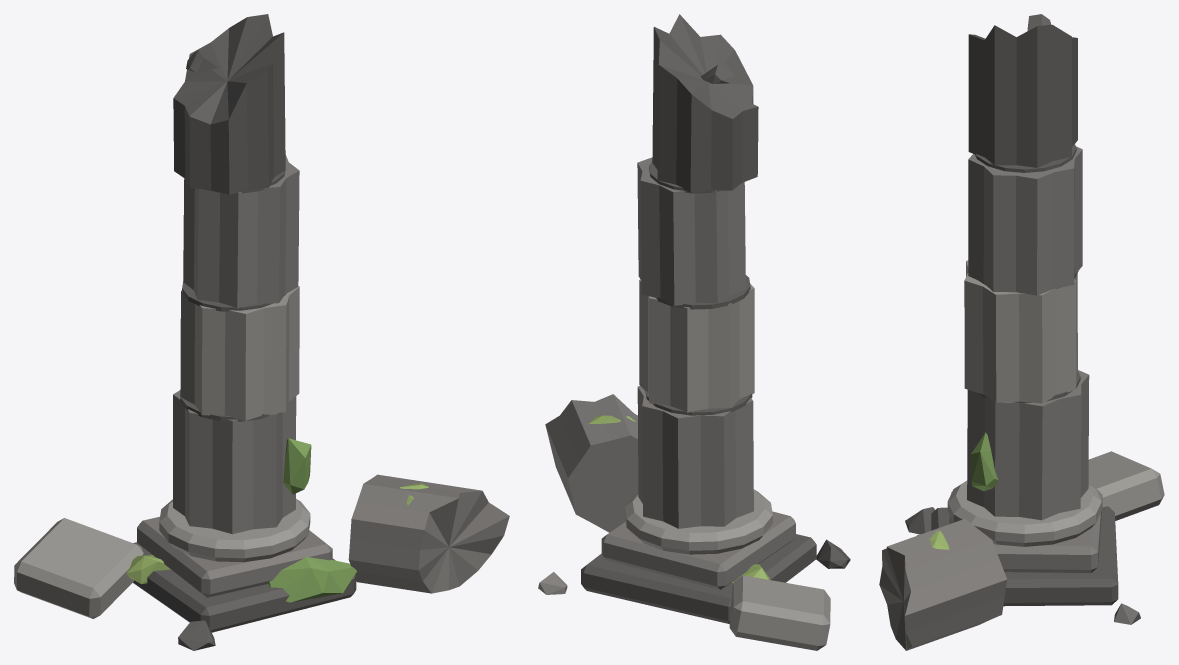
File: ruin_pillar.glb
The picture shows the model from 3 angles, left to right: view 1: azimuth 30°, elevation 25°; view 2: azimuth 150°, elevation 25°; view 3: azimuth 270°, elevation 25°; orthographic projection. The views are drawn at different scales.
Visible parts, largest first — view 1: RuinPillar; view 2: RuinPillar; view 3: RuinPillar.
Boxes of the visible parts, x1=… form: RuinPillar: x1=14, y1=14, x2=509, y2=650; RuinPillar: x1=538, y1=14, x2=850, y2=650; RuinPillar: x1=879, y1=14, x2=1164, y2=650.
Size of the model in its own units: 2.79 by 3.85 by 1.74.
